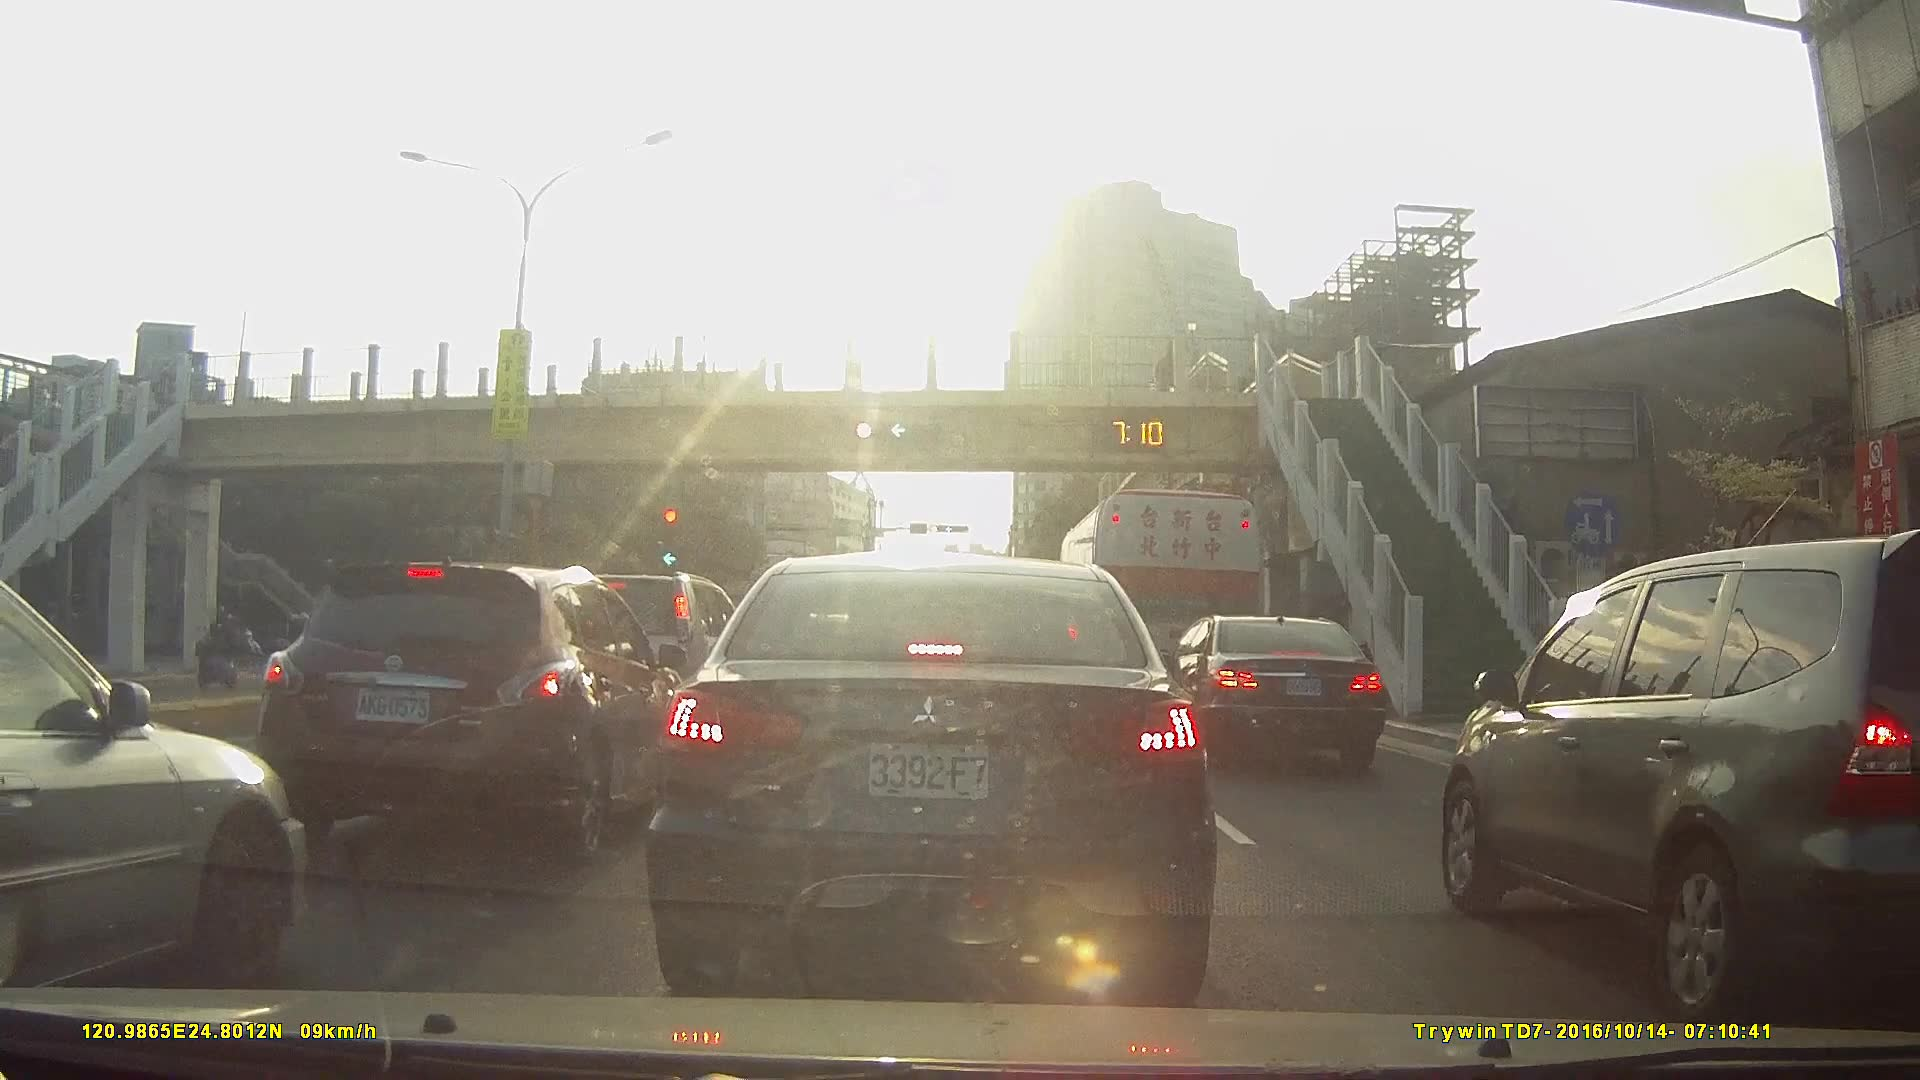pedestrian: (1156, 339, 1184, 395)
rider: (197, 601, 245, 689), (209, 613, 267, 669)
vehicle: (643, 552, 1218, 1004), (1434, 530, 1920, 1021), (253, 557, 694, 868), (0, 574, 311, 1004), (1056, 486, 1264, 729), (1151, 616, 1388, 772)
